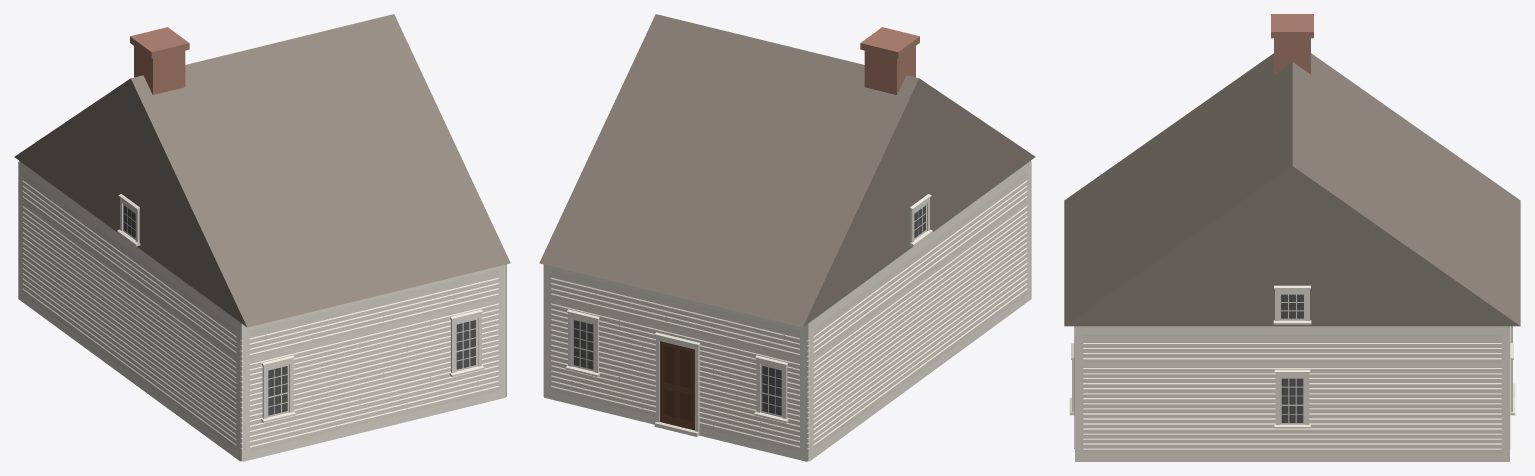
Rendered from recon_1835_blk_randolph_market_d6_02__inferred_1835.glb.
The picture shows the model from 3 angles, left to right: view 1: azimuth 30°, elevation 25°; view 2: azimuth 150°, elevation 25°; view 3: azimuth 270°, elevation 25°; orthographic projection. The views are drawn at different scales.
Visible parts, largest first — view 1: recon_1835_blk_randolph_market_d6_02__inferred_1835; view 2: recon_1835_blk_randolph_market_d6_02__inferred_1835; view 3: recon_1835_blk_randolph_market_d6_02__inferred_1835.
Boxes of the visible parts, x1,y1,x2,y2 form: recon_1835_blk_randolph_market_d6_02__inferred_1835: (14, 14, 510, 461); recon_1835_blk_randolph_market_d6_02__inferred_1835: (539, 14, 1035, 461); recon_1835_blk_randolph_market_d6_02__inferred_1835: (1064, 14, 1520, 461).
Bounding box in the file's own units: 7.05 × 8.25 × 10.46.
